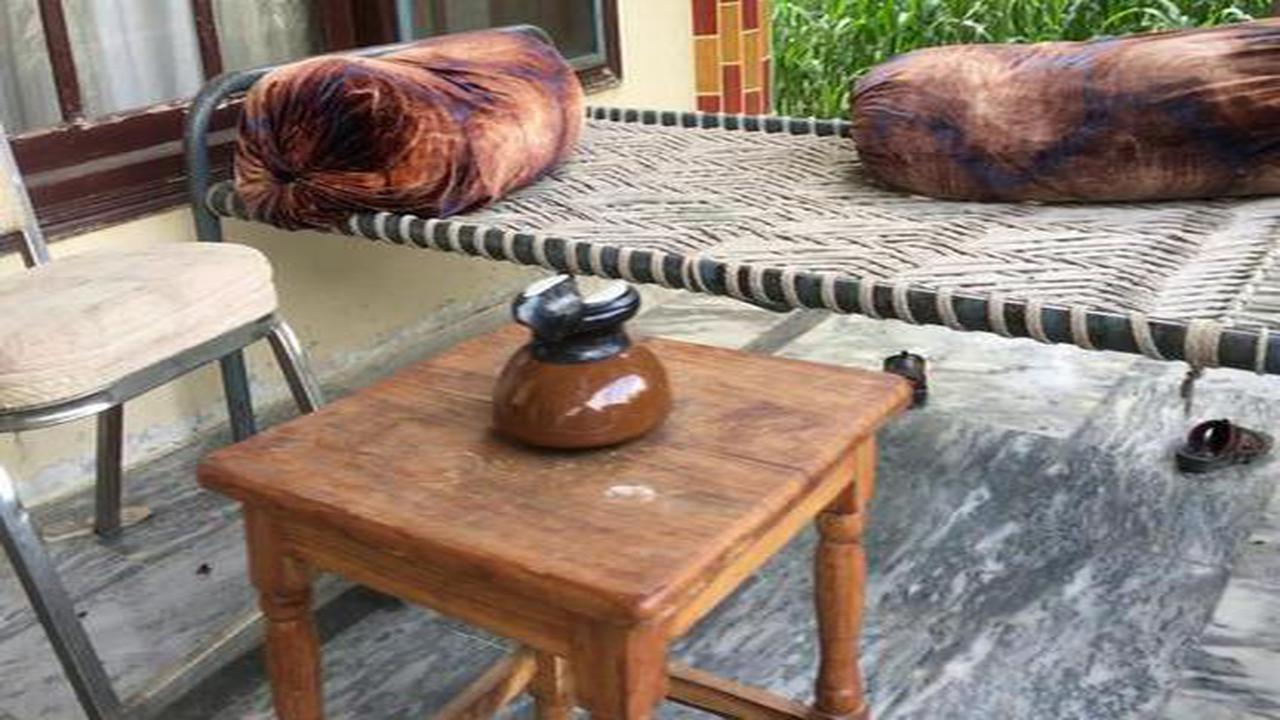insulator_pin: (462, 262, 693, 461)
